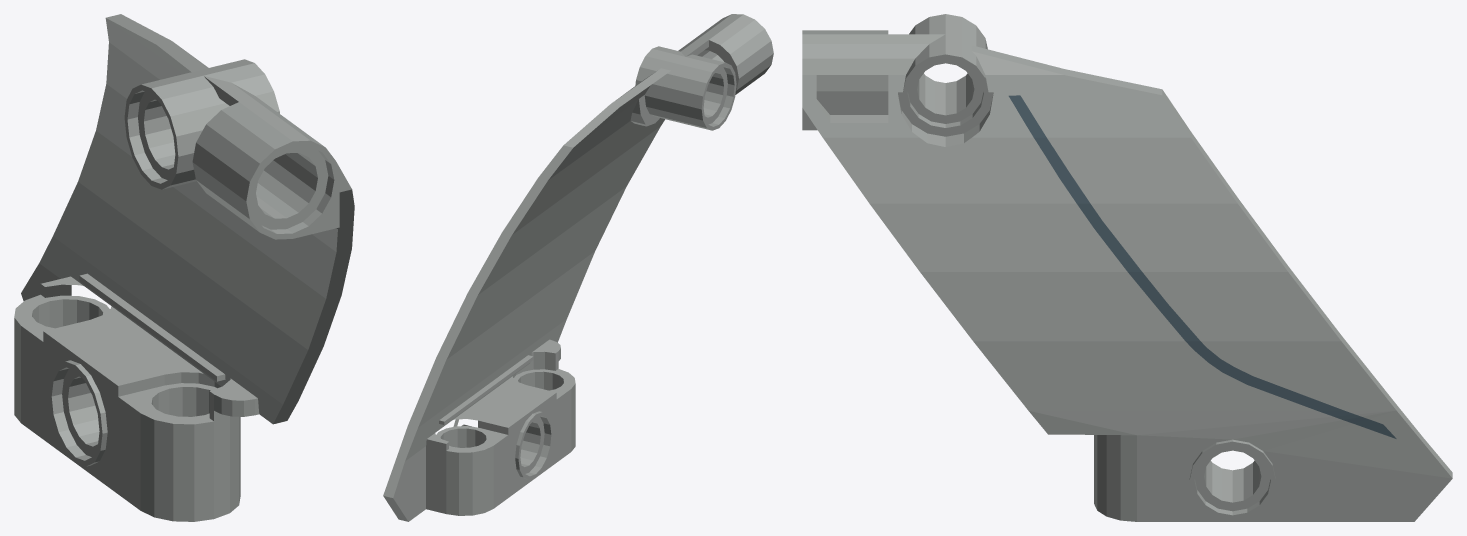
3 views of the same model, side by side, from view 1: azimuth 30°, elevation 25°; view 2: azimuth 150°, elevation 25°; view 3: azimuth 270°, elevation 25° (orthographic). The views are drawn at different scales.
Visible parts, largest first — view 1: world; view 2: world; view 3: world.
Boxes of the visible parts, x1,y1,x2,y2 form: world: (14, 14, 354, 521); world: (383, 14, 773, 521); world: (802, 14, 1452, 521).
Size of the model in its own units: 0.016 by 0.0396 by 0.0544.
